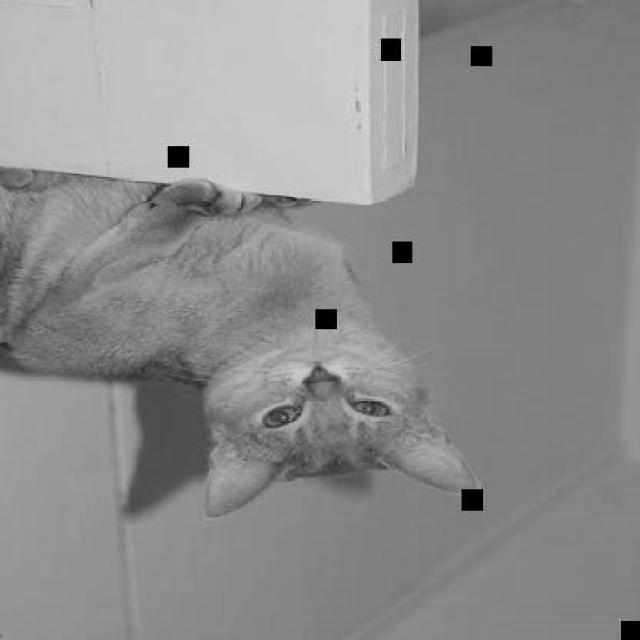Cat: (0, 158, 480, 520)
